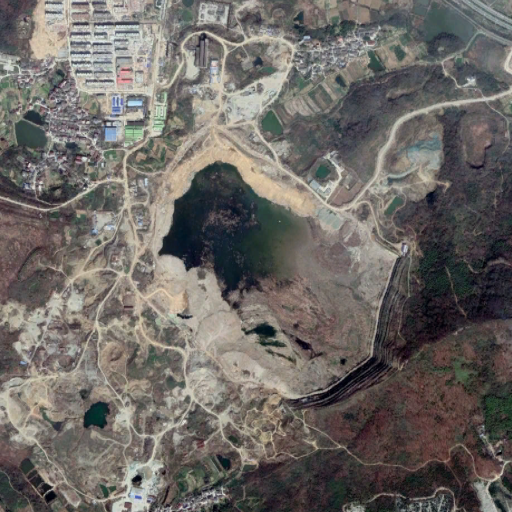tp: (153, 139, 407, 401)
